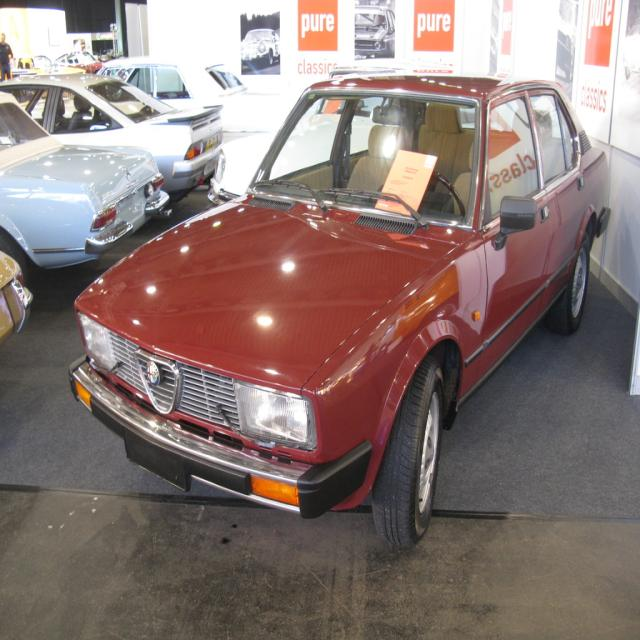car: (66, 76, 611, 545)
